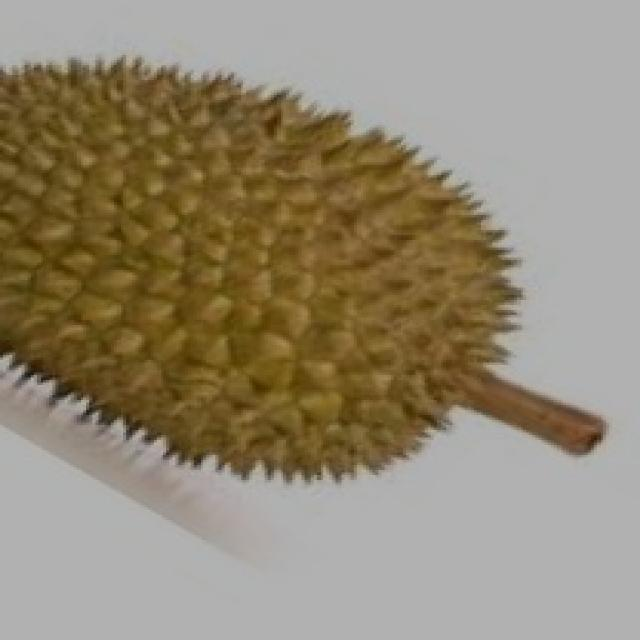fruit: (203, 163, 597, 565), (0, 208, 357, 562)
